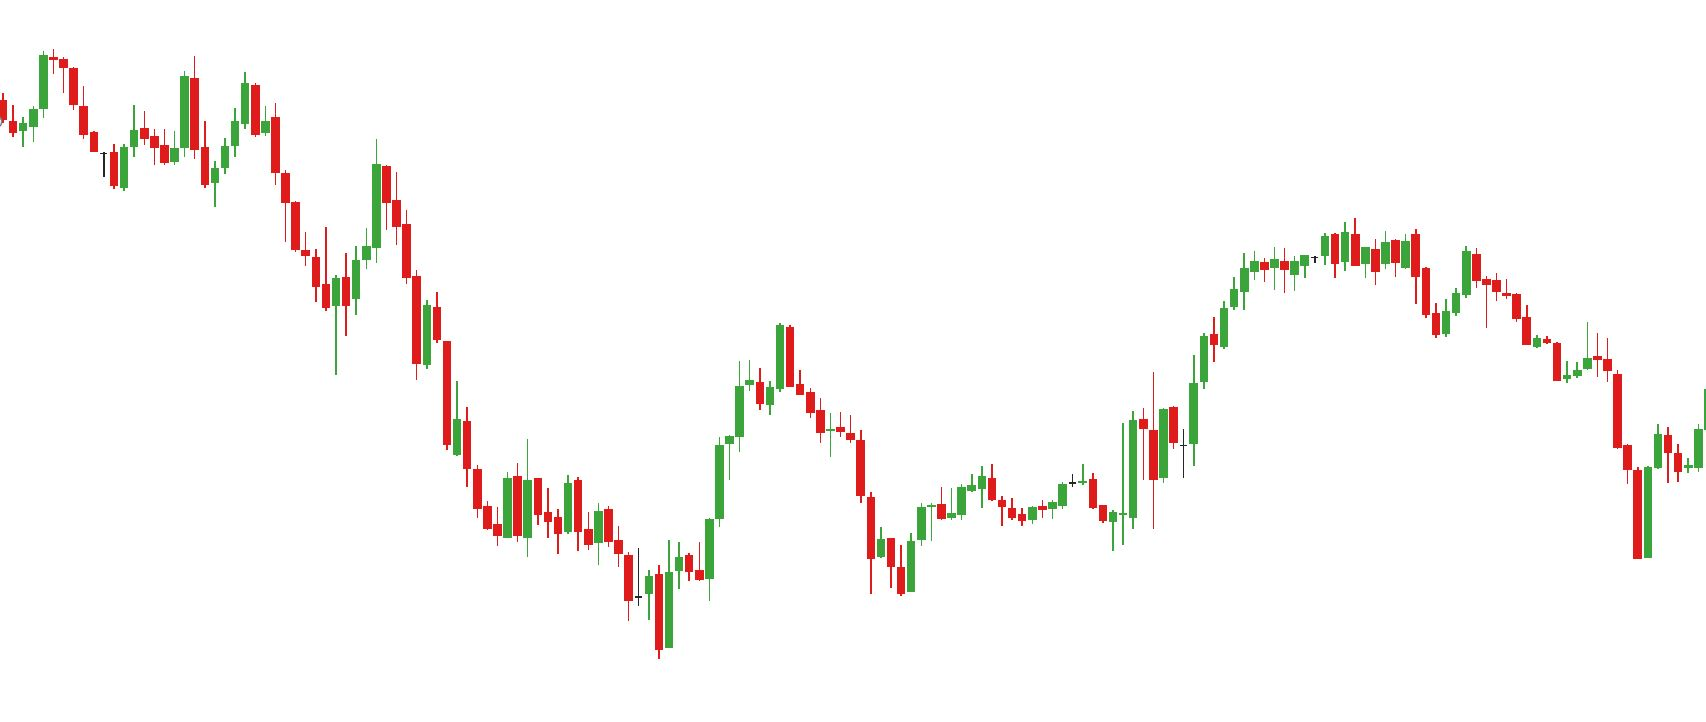buy: (997, 491, 1120, 557)
sell: (321, 128, 399, 273), (126, 47, 200, 169)
